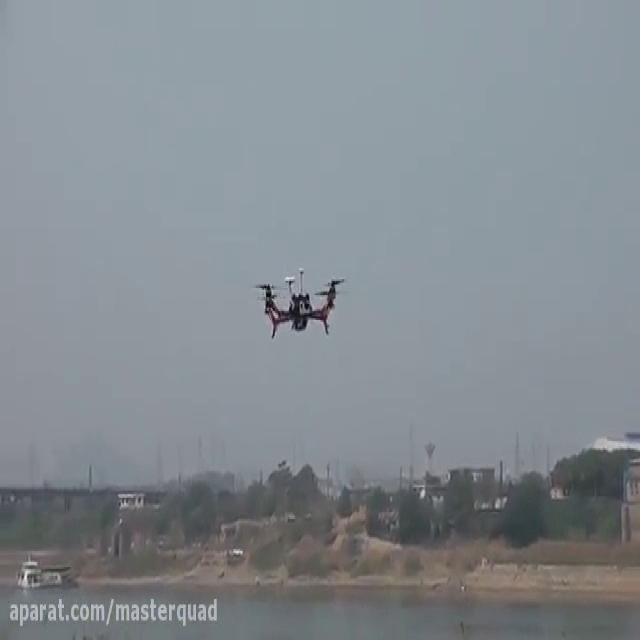drone: (248, 262, 350, 342)
